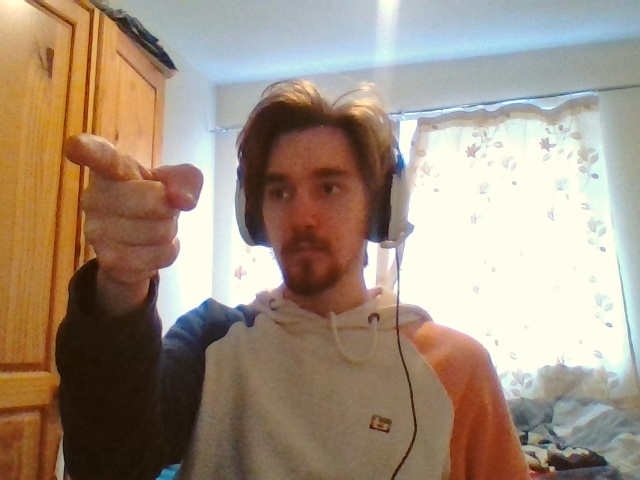you: (63, 133, 204, 278)
